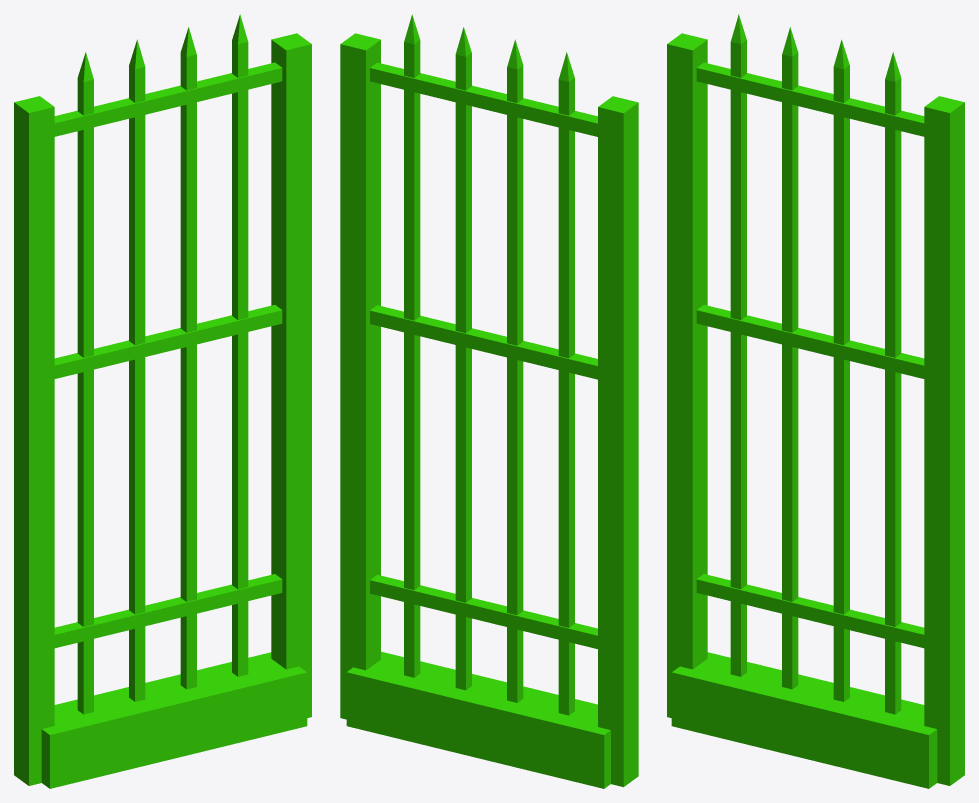
File: fence3_05.fbx
3 views of the same model, side by side, from view 1: azimuth 30°, elevation 25°; view 2: azimuth 150°, elevation 25°; view 3: azimuth 330°, elevation 25° (orthographic).
Parts seen in each view (by area): view 1: fence3_05; view 2: fence3_05; view 3: fence3_05.
Boxes of the visible parts, <box> form: fence3_05: <box>14,14,311,788</box>; fence3_05: <box>340,14,638,788</box>; fence3_05: <box>667,14,964,788</box>.
Bounding box in the file's own units: 110 × 265 × 20.
